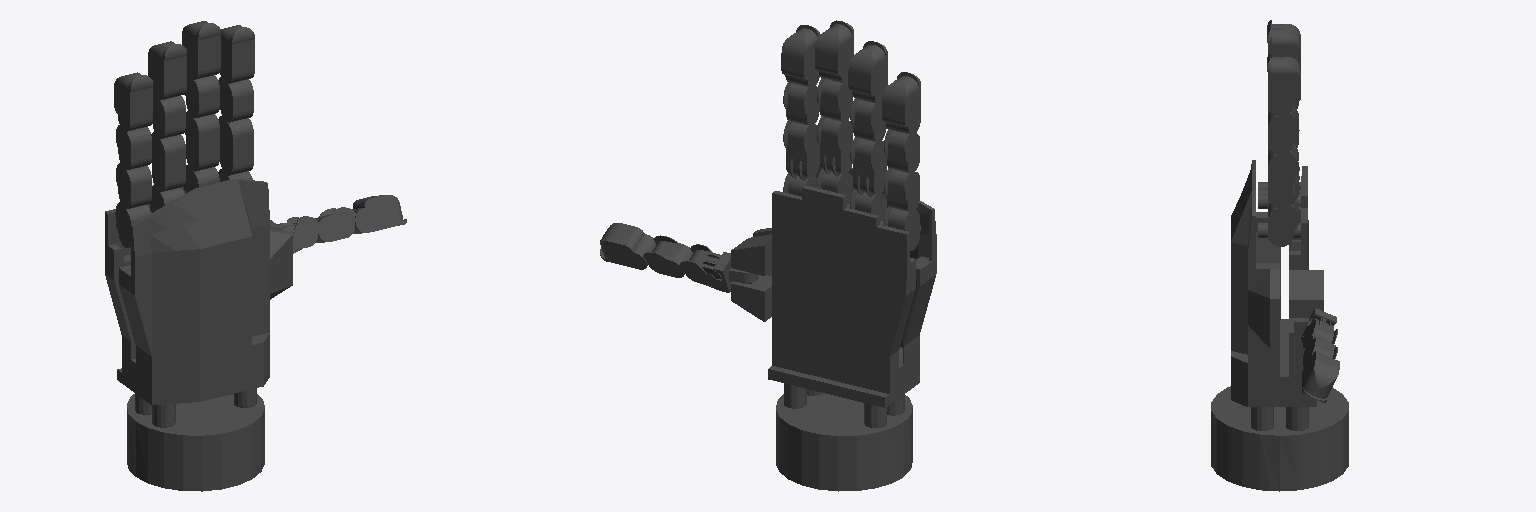
--- Render facts (derived) ---
3 views of the same robot in one strip: view 1: azimuth 30°, elevation 25°; view 2: azimuth 150°, elevation 25°; view 3: azimuth 270°, elevation 25° (orthographic).
Model qbhand with 38 links and 37 joints (34 revolute, 3 fixed), rooted at root_link, posed every joint at zero.
Visible links, largest first — view 1: qbhand_palm_link, qbhand_base_link, qbhand_little_distal_link, qbhand_ring_distal_link, qbhand_middle_distal_link, qbhand_index_distal_link, qbhand_middle_proximal_link, qbhand_ring_proximal_link, qbhand_index_proximal_link, qbhand_thumb_distal_link, qbhand_little_proximal_link, qbhand_little_middle_link (+7 smaller); view 2: qbhand_palm_link, qbhand_base_link, qbhand_little_distal_link, qbhand_ring_distal_link, qbhand_thumb_knuckle_link, qbhand_middle_distal_link, qbhand_thumb_distal_link, qbhand_index_distal_link, qbhand_index_proximal_link, qbhand_ring_proximal_link, qbhand_middle_proximal_link, qbhand_thumb_proximal_link (+8 smaller); view 3: qbhand_palm_link, qbhand_base_link, qbhand_index_distal_link, qbhand_index_proximal_link, qbhand_thumb_distal_link, qbhand_index_knuckle_link, qbhand_index_middle_link, qbhand_thumb_knuckle_link, qbhand_middle_distal_link.
Boxes of the visible links, x1,y1,x2,y2 form: qbhand_palm_link: (105, 178, 292, 404); qbhand_base_link: (127, 388, 264, 491); qbhand_little_distal_link: (114, 72, 153, 131); qbhand_ring_distal_link: (148, 41, 186, 99); qbhand_middle_distal_link: (182, 21, 220, 79); qbhand_index_distal_link: (220, 25, 254, 83); qbhand_middle_proximal_link: (185, 111, 219, 171); qbhand_ring_proximal_link: (151, 132, 185, 191); qbhand_index_proximal_link: (218, 115, 253, 175); qbhand_thumb_distal_link: (352, 195, 406, 233); qbhand_little_proximal_link: (116, 163, 151, 208); qbhand_little_middle_link: (116, 125, 151, 169); qbhand_palm_link: (731, 164, 936, 407); qbhand_base_link: (776, 383, 912, 491); qbhand_little_distal_link: (882, 72, 920, 134); qbhand_ring_distal_link: (848, 41, 887, 103); qbhand_thumb_knuckle_link: (680, 244, 757, 292); qbhand_middle_distal_link: (815, 20, 853, 83); qbhand_thumb_distal_link: (600, 223, 655, 269); qbhand_index_distal_link: (781, 25, 820, 87); qbhand_index_proximal_link: (783, 120, 819, 180); qbhand_ring_proximal_link: (850, 137, 886, 196); qbhand_middle_proximal_link: (817, 116, 852, 176); qbhand_thumb_proximal_link: (643, 235, 692, 277); qbhand_palm_link: (1231, 160, 1323, 406); qbhand_base_link: (1211, 386, 1348, 491); qbhand_index_distal_link: (1267, 53, 1300, 116); qbhand_index_proximal_link: (1268, 144, 1298, 207); qbhand_thumb_distal_link: (1302, 351, 1339, 402); qbhand_index_knuckle_link: (1258, 200, 1300, 246); qbhand_index_middle_link: (1268, 105, 1298, 154); qbhand_thumb_knuckle_link: (1294, 308, 1337, 348); qbhand_middle_distal_link: (1267, 25, 1300, 66).
Size in the robot's own frame: 0.1799 by 0.0703 by 0.2488 metres.
Meshes: 7 distinct files referenced, 21 mesh visuals loaded (7 binary STL).

robot.urdf — qbhand:
<?xml version="1.0" ?>
<!-- =================================================================================== -->
<!-- |    This document was autogenerated by xacro from qbhand.urdf.xacro              | -->
<!-- |    EDITING THIS FILE BY HAND IS NOT RECOMMENDED                                 | -->
<!-- =================================================================================== -->
<robot name="qbhand">
   <mujoco>
        <compiler
        meshdir="../meshes/qbhand"
        balanceinertia="true"
        discardvisual="false" />
   </mujoco>
  <material name="qbhand/optional">
    <color rgba="0.0 0.5 0.8 1.0"/>
  </material>
  <material name="qbhand/base">
    <color rgba="0.35 0.35 0.35 1.0"/>
  </material>
  <material name="qbhand/palm">
    <color rgba="0.35 0.35 0.35 1.0"/>
  </material>
  <material name="qbhand/knuckle">
    <color rgba="0.35 0.35 0.35 1.0"/>
  </material>
  <material name="qbhand/proximal">
    <color rgba="0.35 0.35 0.35 1.0"/>
  </material>
  <material name="qbhand/middle">
    <color rgba="0.35 0.35 0.35 1.0"/>
  </material>
  <material name="qbhand/distal">
    <color rgba="0.35 0.35 0.35 1.0"/>
  </material>
  <material name="qbhand/default">
    <color rgba="0.35 0.35 0.35 1.0"/>
  </material>
  <link name="root_link"/>
  <joint name="qbhand_base_fixed_joint" type="fixed">
    <origin rpy="0 0 0" xyz="0 0 0"/>
    <parent link="root_link"/>
    <child link="qbhand_base_link"/>
  </joint>
  <link name="qbhand_base_link">
    <inertial>
      <mass value="0.205"/>
      <origin rpy="0 0 0" xyz="0.0 7.8738498e-04 1.5878899e-02"/>
      <inertia ixx="0.00012506929" ixy="0.0" ixz="0.0" iyy="0.0001338779" iyz="0.0" izz="0.00019218394"/>
    </inertial>
    <visual>
      <origin rpy="0 0 0" xyz="0 0 0"/>
      <geometry>
        <mesh filename="../meshes/qbhand/flange_iso_04.stl" scale="0.001 0.001 0.001"/>
      </geometry>
      <material name="qbhand/base"/>
    </visual>
    <collision>
      <origin rpy="0 0 0" xyz="0 0 0"/>
      <geometry>
        <mesh filename="../meshes/qbhand/flange_iso_04.stl" scale="0.001 0.001 0.001"/>
      </geometry>
    </collision>
  </link>
  <gazebo reference="qbhand_base_link">
    <self_collide>1</self_collide>
    <!-- TODO: add other Gazebo Link properties (http://sdformat.org/spec?elem=link) -->
    <!--      <collision>-->
    <!--        <surface>-->
    <!--          <contact>-->
    <!--            <ode>-->
    <!--              <kp>1.0</kp>-->
    <!--              <kd>0.01</kd>-->
    <!--              <max_vel>0.0</max_vel>-->
    <!--              <min_depth>0.001</min_depth>-->
    <!--            </ode>-->
    <!--          </contact>-->
    <!--          <friction>-->
    <!--            <ode>-->
    <!--              <mu>0.9</mu>-->
    <!--              <mu2>0.9</mu2>-->
    <!--            </ode>-->
    <!--          </friction>-->
    <!--        </surface>-->
    <!--      </collision>-->
  </gazebo>
  <joint name="qbhand_palm_fixed_joint" type="fixed">
    <origin rpy="1.57 0 3.14" xyz="0.0045 0.0145 0.144"/>
    <parent link="qbhand_base_link"/>
    <child link="qbhand_palm_link"/>
  </joint>
  <link name="qbhand_palm_link">
    <inertial>
      <mass value="0.45"/>
      <origin rpy="0 0 0" xyz="0.0030 -0.0449 -0.0135"/>
      <inertia ixx="0.00045" ixy="0.0" ixz="0.0" iyy="0.0006" iyz="0.0" izz="0.00025"/>
    </inertial>
    <visual>
      <origin rpy="0 0 0" xyz="0 0 0"/>
      <geometry>
        <mesh filename="../meshes/qbhand/palm_pinch_l.stl" scale="0.001 0.001 0.001"/>
      </geometry>
      <material name="qbhand/palm"/>
    </visual>
    <collision>
      <origin rpy="0 0 0" xyz="0 0 0"/>
      <geometry>
        <mesh filename="../meshes/qbhand/palm_pinch_l.stl" scale="0.001 0.001 0.001"/>
      </geometry>
    </collision>
  </link>
  <gazebo reference="qbhand_palm_link">
    <self_collide>1</self_collide>
    <!-- TODO: add other Gazebo Link properties (http://sdformat.org/spec?elem=link) -->
    <!--      <collision>-->
    <!--        <surface>-->
    <!--          <contact>-->
    <!--            <ode>-->
    <!--              <kp>1.0</kp>-->
    <!--              <kd>0.01</kd>-->
    <!--              <max_vel>0.0</max_vel>-->
    <!--              <min_depth>0.001</min_depth>-->
    <!--            </ode>-->
    <!--          </contact>-->
    <!--          <friction>-->
    <!--            <ode>-->
    <!--              <mu>0.9</mu>-->
    <!--              <mu2>0.9</mu2>-->
    <!--            </ode>-->
    <!--          </friction>-->
    <!--        </surface>-->
    <!--      </collision>-->
  </gazebo>
  <joint name="qbhand_synergy_joint" type="revolute">
    <origin rpy="0 0 0" xyz="0 0 0"/>
    <parent link="qbhand_palm_link"/>
    <child link="qbhand_synergy_tendon_virtual_link"/>
    <axis xyz="0 0 1"/>
    <dynamics damping="0.0" friction="0.0"/>
    <limit effort="100" lower="0.0" upper="1.0" velocity="100"/>
  </joint>
  <transmission name="qbhand_synergy_transmission">
    <type>transmission_interface/qbMoveTransmission</type>
    <joint name="qbhand_synergy_joint">
      <hardwareInterface>hardware_interface/EffortJointInterface</hardwareInterface>
    </joint>
    <actuator name="qbhand_synergy_joint">
      <hardwareInterface>hardware_interface/EffortJointInterface</hardwareInterface>
    </actuator>
  </transmission>
  <link name="qbhand_synergy_tendon_virtual_link">
    <inertial>
      <origin rpy="0 0 0" xyz="0 0 0"/>
      <mass value="1e-4"/>
      <inertia ixx="1e-9" ixy="0.0" ixz="0.0" iyy="1e-9" iyz="0.0" izz="1e-9"/>
    </inertial>
  </link>
  <joint name="qbhand_thumb_knuckle_joint" type="revolute">
    <origin rpy="-1.57 3.14 0.0" xyz="-0.044 -0.0465 0.002"/>
    <parent link="qbhand_palm_link"/>
    <child link="qbhand_thumb_knuckle_link"/>
    <axis xyz="0 0 -1"/>
    <dynamics damping="0.0" friction="0.0"/>
    <limit effort="100" lower="0.0" upper="1.571" velocity="100"/>
    <mimic joint="qbhand_synergy_joint" multiplier="2.542"/>
  </joint>
  <transmission name="qbhand_transmission">
    <type>transmission_interface/qbMoveTransmission</type>
    <joint name="qbhand_thumb_knuckle_joint">
      <hardwareInterface>hardware_interface/EffortJointInterface</hardwareInterface>
    </joint>
    <actuator name="qbhand_thumb_knuckle_joint">
      <hardwareInterface>hardware_interface/EffortJointInterface</hardwareInterface>
    </actuator>
  </transmission>
  <gazebo reference="qbhand_thumb_knuckle_joint">
    <!-- TODO: add other Gazebo Joint properties (http://sdformat.org/spec?elem=joint) -->
  </gazebo>
  <link name="qbhand_thumb_knuckle_link">
    <inertial>
      <mass value="0.01"/>
      <origin rpy="0 0 0" xyz="1.3071561e-02 2.7346340e-03 6.4090487e-04"/>
      <inertia ixx="3.5827953e-07" ixy="-2.0934657e-07" ixz="-6.8435459e-08" iyy="1.3882698e-06" iyz="-3.2001578e-08" izz="1.3570267e-06"/>
    </inertial>
    <visual>
      <origin rpy="0 0 0" xyz="0 0 0"/>
      <geometry>
        <mesh filename="../meshes/qbhand/ph_thumb_l.stl" scale="0.001 0.001 0.001"/>
      </geometry>
      <material name="qbhand/knuckle"/>
    </visual>
    <collision>
      <origin rpy="0 0 0" xyz="0 0 0"/>
      <geometry>
        <mesh filename="../meshes/qbhand/ph_thumb_l_collision.stl" scale="0.001 0.001 0.001"/>
      </geometry>
    </collision>
  </link>
  <gazebo reference="qbhand_thumb_knuckle_link">
    <self_collide>1</self_collide>
    <!-- TODO: add other Gazebo Link properties (http://sdformat.org/spec?elem=link) -->
    <!--      <collision>-->
    <!--        <surface>-->
    <!--          <contact>-->
    <!--            <ode>-->
    <!--              <kp>1.0</kp>-->
    <!--              <kd>0.01</kd>-->
    <!--              <max_vel>0.0</max_vel>-->
    <!--              <min_depth>0.001</min_depth>-->
    <!--            </ode>-->
    <!--          </contact>-->
    <!--          <friction>-->
    <!--            <ode>-->
    <!--              <mu>0.9</mu>-->
    <!--              <mu2>0.9</mu2>-->
    <!--            </ode>-->
    <!--          </friction>-->
    <!--        </surface>-->
    <!--      </collision>-->
  </gazebo>
  <joint name="qbhand_thumb_proximal_joint" type="revolute">
    <origin rpy="-2.0 0.0 0.0" xyz="0.0255 0.0038 -0.00012"/>
    <parent link="qbhand_thumb_knuckle_link"/>
    <child link="qbhand_thumb_proximal_virtual_link"/>
    <axis xyz="0 0 -1"/>
    <dynamics damping="0.0" friction="0.0"/>
    <limit effort="100" lower="0.0" upper="0.785" velocity="100"/>
    <mimic joint="qbhand_synergy_joint" multiplier="0.785"/>
  </joint>
  <transmission name="qbhand_transmission">
    <type>transmission_interface/qbMoveTransmission</type>
    <joint name="qbhand_thumb_proximal_joint">
      <hardwareInterface>hardware_interface/EffortJointInterface</hardwareInterface>
    </joint>
    <actuator name="qbhand_thumb_proximal_joint">
      <hardwareInterface>hardware_interface/EffortJointInterface</hardwareInterface>
    </actuator>
  </transmission>
  <gazebo reference="qbhand_thumb_proximal_joint">
    <!-- TODO: add other Gazebo Joint properties (http://sdformat.org/spec?elem=joint) -->
  </gazebo>
  <link name="qbhand_thumb_proximal_virtual_link">
    <inertial>
      <origin rpy="0 0 0" xyz="0 0 0"/>
      <mass value="1e-4"/>
      <inertia ixx="1e-9" ixy="0.0" ixz="0.0" iyy="1e-9" iyz="0.0" izz="1e-9"/>
    </inertial>
  </link>
  <joint name="qbhand_thumb_proximal_virtual_joint" type="revolute">
    <origin rpy="0 0 0" xyz="0.013 0 0"/>
    <parent link="qbhand_thumb_proximal_virtual_link"/>
    <child link="qbhand_thumb_proximal_link"/>
    <axis xyz="0 0 -1"/>
    <dynamics damping="0.0" friction="0.0"/>
    <limit effort="100" lower="0.0" upper="0.785" velocity="100"/>
    <mimic joint="qbhand_thumb_proximal_joint" multiplier="1.0"/>
  </joint>
  <transmission name="qbhand_transmission">
    <type>transmission_interface/qbMoveTransmission</type>
    <joint name="qbhand_thumb_proximal_virtual_joint">
      <hardwareInterface>hardware_interface/EffortJointInterface</hardwareInterface>
    </joint>
    <actuator name="qbhand_thumb_proximal_virtual_joint">
      <hardwareInterface>hardware_interface/EffortJointInterface</hardwareInterface>
    </actuator>
  </transmission>
  <gazebo reference="qbhand_thumb_proximal_virtual_joint">
    <!-- TODO: add other Gazebo Joint properties (http://sdformat.org/spec?elem=joint) -->
  </gazebo>
  <link name="qbhand_thumb_proximal_link">
    <inertial>
      <mass value="0.0063"/>
      <origin rpy="0 0 0" xyz="4.7601567e-03 -1.3786947e-03 0.0"/>
      <inertia ixx="1.8024201e-07" ixy="5.756798e-09" ixz="0.0" iyy="2.3516266e-07" iyz="0.0" izz="2.691504e-07"/>
    </inertial>
    <visual>
      <origin rpy="0 0 0" xyz="0 0 0"/>
      <geometry>
        <mesh filename="../meshes/qbhand/ph_short.stl" scale="0.001 0.001 0.001"/>
      </geometry>
      <material name="qbhand/proximal"/>
    </visual>
    <collision>
      <origin rpy="0 0 0" xyz="0 0 0"/>
      <geometry>
        <mesh filename="../meshes/qbhand/ph_short_collision.stl" scale="0.001 0.001 0.001"/>
      </geometry>
    </collision>
  </link>
  <gazebo reference="qbhand_thumb_proximal_link">
    <self_collide>1</self_collide>
    <!-- TODO: add other Gazebo Link properties (http://sdformat.org/spec?elem=link) -->
    <!--      <collision>-->
    <!--        <surface>-->
    <!--          <contact>-->
    <!--            <ode>-->
    <!--              <kp>1.0</kp>-->
    <!--              <kd>0.01</kd>-->
    <!--              <max_vel>0.0</max_vel>-->
    <!--              <min_depth>0.001</min_depth>-->
    <!--            </ode>-->
    <!--          </contact>-->
    <!--          <friction>-->
    <!--            <ode>-->
    <!--              <mu>0.9</mu>-->
    <!--              <mu2>0.9</mu2>-->
    <!--            </ode>-->
    <!--          </friction>-->
    <!--        </surface>-->
    <!--      </collision>-->
  </gazebo>
  <joint name="qbhand_thumb_distal_joint" type="revolute">
    <origin rpy="0 0 0" xyz="0.009 0 0"/>
    <parent link="qbhand_thumb_proximal_link"/>
    <child link="qbhand_thumb_distal_virtual_link"/>
    <axis xyz="0 0 -1"/>
    <dynamics damping="0.0" friction="0.0"/>
    <limit effort="100" lower="0.0" upper="0.785" velocity="100"/>
    <mimic joint="qbhand_synergy_joint" multiplier="0.785"/>
  </joint>
  <transmission name="qbhand_transmission">
    <type>transmission_interface/qbMoveTransmission</type>
    <joint name="qbhand_thumb_distal_joint">
      <hardwareInterface>hardware_interface/EffortJointInterface</hardwareInterface>
    </joint>
    <actuator name="qbhand_thumb_distal_joint">
      <hardwareInterface>hardware_interface/EffortJointInterface</hardwareInterface>
    </actuator>
  </transmission>
  <gazebo reference="qbhand_thumb_distal_joint">
    <!-- TODO: add other Gazebo Joint properties (http://sdformat.org/spec?elem=joint) -->
  </gazebo>
  <link name="qbhand_thumb_distal_virtual_link">
    <inertial>
      <origin rpy="0 0 0" xyz="0 0 0"/>
      <mass value="1e-4"/>
      <inertia ixx="1e-9" ixy="0.0" ixz="0.0" iyy="1e-9" iyz="0.0" izz="1e-9"/>
    </inertial>
  </link>
  <joint name="qbhand_thumb_distal_virtual_joint" type="revolute">
    <origin rpy="0 0 0" xyz="0.013 0 0"/>
    <parent link="qbhand_thumb_distal_virtual_link"/>
    <child link="qbhand_thumb_distal_link"/>
    <axis xyz="0 0 -1"/>
    <dynamics damping="0.0" friction="0.0"/>
    <limit effort="100" lower="0.0" upper="0.785" velocity="100"/>
    <mimic joint="qbhand_thumb_distal_joint" multiplier="1.0"/>
  </joint>
  <transmission name="qbhand_transmission">
    <type>transmission_interface/qbMoveTransmission</type>
    <joint name="qbhand_thumb_distal_virtual_joint">
      <hardwareInterface>hardware_interface/EffortJointInterface</hardwareInterface>
    </joint>
    <actuator name="qbhand_thumb_distal_virtual_joint">
      <hardwareInterface>hardware_interface/EffortJointInterface</hardwareInterface>
    </actuator>
  </transmission>
  <gazebo reference="qbhand_thumb_distal_virtual_joint">
    <!-- TODO: add other Gazebo Joint properties (http://sdformat.org/spec?elem=joint) -->
  </gazebo>
  <link name="qbhand_thumb_distal_link">
    <inertial>
      <mass value="0.009"/>
      <origin rpy="0 0 0" xyz="8.8025467e-03 -1.7219289e-03 0.0"/>
      <inertia ixx="2.6586142e-07" ixy="1.2416847e-08" ixz="0.0" iyy="5.9935767e-07" iyz="0.0" izz="6.6781963e-07"/>
    </inertial>
    <visual>
      <origin rpy="0 0 0" xyz="0 0 0"/>
      <geometry>
        <mesh filename="../meshes/qbhand/ph_distal.stl" scale="0.001 0.001 0.001"/>
      </geometry>
      <material name="qbhand/distal"/>
    </visual>
    <collision>
      <origin rpy="0 0 0" xyz="0 0 0"/>
      <geometry>
        <mesh filename="../meshes/qbhand/ph_distal_collision.stl" scale="0.001 0.001 0.001"/>
      </geometry>
    </collision>
  </link>
  <gazebo reference="qbhand_thumb_distal_link">
    <self_collide>1</self_collide>
    <!-- TODO: add other Gazebo Link properties (http://sdformat.org/spec?elem=link) -->
    <!--      <collision>-->
    <!--        <surface>-->
    <!--          <contact>-->
    <!--            <ode>-->
    <!--              <kp>1.0</kp>-->
    <!--              <kd>0.01</kd>-->
    <!--              <max_vel>0.0</max_vel>-->
    <!--              <min_depth>0.001</min_depth>-->
    <!--            </ode>-->
    <!--          </contact>-->
    <!--          <friction>-->
    <!--            <ode>-->
    <!--              <mu>0.9</mu>-->
    <!--              <mu2>0.9</mu2>-->
    <!--            </ode>-->
    <!--          </friction>-->
    <!--        </surface>-->
    <!--      </collision>-->
  </gazebo>
  <joint name="qbhand_index_knuckle_joint" type="revolute">
    <origin rpy="0 3.14 -1.57" xyz="-0.02 -0.007 -0.014"/>
    <parent link="qbhand_palm_link"/>
    <child link="qbhand_index_knuckle_link"/>
    <axis xyz="0 0 -1"/>
    <dynamics damping="0.0" friction="0.0"/>
    <limit effort="100" lower="-0.524" upper="0.524" velocity="100"/>
    <mimic joint="qbhand_synergy_joint" multiplier="0.2"/>
  </joint>
  <transmission name="qbhand_transmission">
    <type>transmission_interface/qbMoveTransmission</type>
    <joint name="qbhand_index_knuckle_joint">
      <hardwareInterface>hardware_interface/EffortJointInterface</hardwareInterface>
    </joint>
    <actuator name="qbhand_index_knuckle_joint">
      <hardwareInterface>hardware_interface/EffortJointInterface</hardwareInterface>
    </actuator>
  </transmission>
  <gazebo reference="qbhand_index_knuckle_joint">
    <!-- TODO: add other Gazebo Joint properties (http://sdformat.org/spec?elem=joint) -->
  </gazebo>
  <link name="qbhand_index_knuckle_link">
    <inertial>
      <mass value="0.0095"/>
      <origin rpy="0 0 0" xyz="4.2753603e-04  0.0 -1.4321738e-03"/>
      <inertia ixx="6.4337303e-07" ixy="0.0" ixz="-3.9373913e-08" iyy="1.1253771e-06" iyz="0.0" izz="7.2336948e-07"/>
    </inertial>
    <visual>
      <origin rpy="0 0 0" xyz="0 0 0"/>
      <geometry>
        <mesh filename="../meshes/qbhand/ph_knuckle.stl" scale="0.001 0.001 0.001"/>
      </geometry>
      <material name="qbhand/knuckle"/>
    </visual>
    <collision>
      <origin rpy="0 0 0" xyz="0 0 0"/>
      <geometry>
        <mesh filename="../meshes/qbhand/ph_knuckle_collision.stl" scale="0.001 0.001 0.001"/>
      </geometry>
    </collision>
  </link>
  <gazebo reference="qbhand_index_knuckle_link">
    <self_collide>1</self_collide>
    <!-- TODO: add other Gazebo Link properties (http://sdformat.org/spec?elem=link) -->
    <!--      <collision>-->
    <!--        <surface>-->
    <!--          <contact>-->
    <!--            <ode>-->
    <!--              <kp>1.0</kp>-->
    <!--              <kd>0.01</kd>-->
    <!--              <max_vel>0.0</max_vel>-->
    <!--              <min_depth>0.001</min_depth>-->
    <!--            </ode>-->
    <!--          </contact>-->
    <!--          <friction>-->
    <!--            <ode>-->
    <!--              <mu>0.9</mu>-->
    <!--              <mu2>0.9</mu2>-->
    <!--            </ode>-->
    <!--          </friction>-->
    <!--        </surface>-->
    <!--      </collision>-->
  </gazebo>
  <joint name="qbhand_index_proximal_joint" type="revolute">
    <origin rpy="1.57 0 0" xyz="0.009 0 0"/>
    <parent link="qbhand_index_knuckle_link"/>
    <child link="qbhand_index_proximal_virtual_link"/>
    <axis xyz="0 0 -1"/>
    <dynamics damping="0.0" friction="0.0"/>
    <limit effort="100" lower="0.0" upper="0.785" velocity="100"/>
    <mimic joint="qbhand_synergy_joint" multiplier="0.785"/>
  </joint>
  <transmission name="qbhand_transmission">
    <type>transmission_interface/qbMoveTransmission</type>
    <joint name="qbhand_index_proximal_joint">
      <hardwareInterface>hardware_interface/EffortJointInterface</hardwareInterface>
    </joint>
    <actuator name="qbhand_index_proximal_joint">
      <hardwareInterface>hardware_interface/EffortJointInterface</hardwareInterface>
    </actuator>
  </transmission>
  <gazebo reference="qbhand_index_proximal_joint">
    <!-- TODO: add other Gazebo Joint properties (http://sdformat.org/spec?elem=joint) -->
  </gazebo>
  <link name="qbhand_index_proximal_virtual_link">
    <inertial>
      <origin rpy="0 0 0" xyz="0 0 0"/>
      <mass value="1e-4"/>
      <inertia ixx="1e-9" ixy="0.0" ixz="0.0" iyy="1e-9" iyz="0.0" izz="1e-9"/>
    </inertial>
  </link>
  <joint name="qbhand_index_proximal_virtual_joint" type="revolute">
    <origin rpy="0 0 0" xyz="0.013 0 0"/>
    <parent link="qbhand_index_proximal_virtual_link"/>
    <child link="qbhand_index_proximal_link"/>
    <axis xyz="0 0 -1"/>
    <dynamics damping="0.0" friction="0.0"/>
    <limit effort="100" lower="0.0" upper="0.785" velocity="100"/>
    <mimic joint="qbhand_index_proximal_joint" multiplier="1.0"/>
  </joint>
  <transmission name="qbhand_transmission">
    <type>transmission_interface/qbMoveTransmission</type>
    <joint name="qbhand_index_proximal_virtual_joint">
      <hardwareInterface>hardware_interface/EffortJointInterface</hardwareInterface>
    </joint>
    <actuator name="qbhand_index_proximal_virtual_joint">
      <hardwareInterface>hardware_interface/EffortJointInterface</hardwareInterface>
    </actuator>
  </transmission>
  <gazebo reference="qbhand_index_proximal_virtual_joint">
    <!-- TODO: add other Gazebo Joint properties (http://sdformat.org/spec?elem=joint) -->
  </gazebo>
  <link name="qbhand_index_proximal_link">
    <inertial>
      <mass value="0.0082"/>
      <origin rpy="0 0 0" xyz="8.7707437e-03 -1.7863138e-03 0.0"/>
      <inertia ixx="2.2722068e-07" ixy="1.1586053e-08" ixz="0.0" iyy="5.5947233e-07" iyz="0.0" izz="5.9562195e-07"/>
    </inertial>
    <visual>
      <origin rpy="0 0 0" xyz="0 0 0"/>
      <geometry>
        <mesh filename="../meshes/qbhand/ph_medium.stl" scale="0.001 0.001 0.001"/>
      </geometry>
      <material name="qbhand/proximal"/>
    </visual>
    <collision>
      <origin rpy="0 0 0" xyz="0 0 0"/>
      <geometry>
        <mesh filename="../meshes/qbhand/ph_medium_collision.stl" scale="0.001 0.001 0.001"/>
      </geometry>
    </collision>
  </link>
  <gazebo reference="qbhand_index_proximal_link">
    <self_collide>1</self_collide>
    <!-- TODO: add other Gazebo Link properties (http://sdformat.org/spec?elem=link) -->
    <!--      <collision>-->
    <!--        <surface>-->
    <!--          <contact>-->
    <!--            <ode>-->
    <!--              <kp>1.0</kp>-->
    <!--              <kd>0.01</kd>-->
    <!--              <max_vel>0.0</max_vel>-->
    <!--              <min_depth>0.001</min_depth>-->
    <!--            </ode>-->
    <!--          </contact>-->
    <!--          <friction>-->
    <!--            <ode>-->
    <!--              <mu>0.9</mu>-->
    <!--              <mu2>0.9</mu2>-->
    <!--            </ode>-->
    <!--          </friction>-->
    <!--        </surface>-->
    <!--      </collision>-->
  </gazebo>
  <joint name="qbhand_index_middle_joint" type="revolute">
    <origin rpy="0 0 0" xyz="0.017 0 0"/>
    <parent link="qbhand_index_proximal_link"/>
    <child link="qbhand_index_middle_virtual_link"/>
    <axis xyz="0 0 -1"/>
    <dynamics damping="0.0" friction="0.0"/>
    <limit effort="100" lower="0.0" upper="0.785" velocity="100"/>
    <mimic joint="qbhand_synergy_joint" multiplier="0.785"/>
  </joint>
  <transmission name="qbhand_transmission">
    <type>transmission_interface/qbMoveTransmission</type>
    <joint name="qbhand_index_middle_joint">
      <hardwareInterface>hardware_interface/EffortJointInterface</hardwareInterface>
    </joint>
    <actuator name="qbhand_index_middle_joint">
      <hardwareInterface>hardware_interface/EffortJointInterface</hardwareInterface>
    </actuator>
  </transmission>
  <gazebo reference="qbhand_index_middle_joint">
    <!-- TODO: add other Gazebo Joint properties (http://sdformat.org/spec?elem=joint) -->
  </gazebo>
  <link name="qbhand_index_middle_virtual_link">
    <inertial>
      <origin rpy="0 0 0" xyz="0 0 0"/>
      <mass value="1e-4"/>
      <inertia ixx="1e-9" ixy="0.0" ixz="0.0" iyy="1e-9" iyz="0.0" izz="1e-9"/>
    </inertial>
  </link>
  <joint name="qbhand_index_middle_virtual_joint" type="revolute">
    <origin rpy="0 0 0" xyz="0.013 0 0"/>
    <parent link="qbhand_index_middle_virtual_link"/>
    <child link="qbhand_index_middle_link"/>
    <axis xyz="0 0 -1"/>
    <dynamics damping="0.0" friction="0.0"/>
    <limit effort="100" lower="0.0" upper="0.785" velocity="100"/>
    <mimic joint="qbhand_index_middle_joint" multiplier="1.0"/>
  </joint>
  <transmission name="qbhand_transmission">
    <type>transmission_interface/qbMoveTransmission</type>
    <joint name="qbhand_index_middle_virtual_joint">
      <hardwareInterface>hardware_interface/EffortJointInterface</hardwareInterface>
    </joint>
    <actuator name="qbhand_index_middle_virtual_joint">
      <hardwareInterface>hardware_interface/EffortJointInterface</hardwareInterface>
    </actuator>
  </transmission>
  <gazebo reference="qbhand_index_middle_virtual_joint">
    <!-- TODO: add other Gazebo Joint properties (http://sdformat.org/spec?elem=joint) -->
  </gazebo>
  <link name="qbhand_index_middle_link">
    <inertial>
      <mass value="0.0063"/>
      <origin rpy="0 0 0" xyz="4.7601567e-03 -1.3786947e-03 0.0"/>
      <inertia ixx="1.8024201e-07" ixy="5.756798e-09" ixz="0.0" iyy="2.3516266e-07" iyz="0.0" izz="2.691504e-07"/>
    </inertial>
    <visual>
      <origin rpy="0 0 0" xyz="0 0 0"/>
      <geometry>
        <mesh filename="../meshes/qbhand/ph_short.stl" scale="0.001 0.001 0.001"/>
      </geometry>
      <material name="qbhand/middle"/>
    </visual>
    <collision>
      <origin rpy="0 0 0" xyz="0 0 0"/>
      <geometry>
        <mesh filename="../meshes/qbhand/ph_short_collision.stl" scale="0.001 0.001 0.001"/>
      </geometry>
    </collision>
  </link>
  <gazebo reference="qbhand_index_middle_link">
    <self_collide>1</self_collide>
    <!-- TODO: add other Gazebo Link properties (http://sdformat.org/spec?elem=link) -->
    <!--      <collision>-->
    <!--        <surface>-->
    <!--          <contact>-->
    <!--            <ode>-->
    <!--              <kp>1.0</kp>-->
    <!--              <kd>0.01</kd>-->
    <!--              <max_vel>0.0</max_vel>-->
    <!--              <min_depth>0.001</min_depth>-->
    <!--            </ode>-->
    <!--          </contact>-->
    <!--          <friction>-->
    <!--            <ode>-->
    <!--              <mu>0.9</mu>-->
    <!--              <mu2>0.9</mu2>-->
    <!--            </ode>-->
    <!--          </friction>-->
    <!--        </surface>-->
    <!--      </collision>-->
  </gazebo>
  <joint name="qbhand_index_distal_joint" type="revolute">
    <origin rpy="0 0 0" xyz="0.009 0 0"/>
    <parent link="qbhand_index_middle_link"/>
    <child link="qbhand_index_distal_virtual_link"/>
    <axis xyz="0 0 -1"/>
    <dynamics damping="0.0" friction="0.0"/>
    <limit effort="100" lower="0.0" upper="0.785" velocity="100"/>
    <mimic joint="qbhand_synergy_joint" multiplier="0.785"/>
  </joint>
  <transmission name="qbhand_transmission">
    <type>transmission_interface/qbMoveTransmission</type>
    <joint name="qbhand_index_distal_joint">
      <hardwareInterface>hardware_interface/EffortJointInterface</hardwareInterface>
    </joint>
    <actuator name="qbhand_index_distal_joint">
      <hardwareInterface>hardware_interface/EffortJointInterface</hardwareInterface>
    </actuator>
  </transmission>
  <gazebo reference="qbhand_index_distal_joint">
    <!-- TODO: add other Gazebo Joint properties (http://sdformat.org/spec?elem=joint) -->
  </gazebo>
  <link name="qbhand_index_distal_virtual_link">
    <inertial>
      <origin rpy="0 0 0" xyz="0 0 0"/>
      <mass value="1e-4"/>
      <inertia ixx="1e-9" ixy="0.0" ixz="0.0" iyy="1e-9" iyz="0.0" izz="1e-9"/>
    </inertial>
  </link>
  <joint name="qbhand_index_distal_virtual_joint" type="revolute">
    <origin rpy="0 0 0" xyz="0.013 0 0"/>
    <parent link="qbhand_index_distal_virtual_link"/>
    <child link="qbhand_index_distal_link"/>
    <axis xyz="0 0 -1"/>
    <dynamics damping="0.0" friction="0.0"/>
    <limit effort="100" lower="0.0" upper="0.785" velocity="100"/>
    <mimic joint="qbhand_index_distal_joint" multiplier="1.0"/>
  </joint>
  <transmission name="qbhand_transmission">
    <type>transmission_interface/qbMoveTransmission</type>
    <joint name="qbhand_index_distal_virtual_joint">
      <hardwareInterface>hardware_interface/EffortJointInterface</hardwareInterface>
    </joint>
    <actuator name="qbhand_index_distal_virtual_joint">
      <hardwareInterface>hardware_interface/EffortJointInterface</hardwareInterface>
    </actuator>
  </transmission>
  <gazebo reference="qbhand_index_distal_virtual_joint">
    <!-- TODO: add other Gazebo Joint properties (http://sdformat.org/spec?elem=joint) -->
  </gazebo>
  <link name="qbhand_index_distal_link">
    <inertial>
      <mass value="0.009"/>
      <origin rpy="0 0 0" xyz="8.8025467e-03 -1.7219289e-03 0.0"/>
      <inertia ixx="2.6586142e-07" ixy="1.2416847e-08" ixz="0.0" iyy="5.9935767e-07" iyz="0.0" izz="6.6781963e-07"/>
    </inertial>
    <visual>
      <origin rpy="0 0 0" xyz="0 0 0"/>
      <geometry>
        <mesh filename="../meshes/qbhand/ph_distal.stl" scale="0.001 0.001 0.001"/>
      </geometry>
      <material name="qbhand/distal"/>
    </visual>
    <collision>
      <origin rpy="0 0 0" xyz="0 0 0"/>
      <geometry>
        <mesh filename="../meshes/qbhand/ph_distal_collision.stl" scale="0.001 0.001 0.001"/>
      </geometry>
    </collision>
  </link>
  <gazebo reference="qbhand_index_distal_link">
    <self_collide>1</self_collide>
    <!-- TODO: add other Gazebo Link properties (http://sdformat.org/spec?elem=link) -->
    <!--      <collision>-->
    <!--        <surface>-->
    <!--          <contact>-->
    <!--            <ode>-->
    <!--              <kp>1.0</kp>-->
    <!--              <kd>0.01</kd>-->
    <!--              <max_vel>0.0</max_vel>-->
    <!--              <min_depth>0.001</min_depth>-->
    <!--            </ode>-->
    <!--          </contact>-->
    <!--          <friction>-->
    <!--            <ode>-->
    <!--              <mu>0.9</mu>-->
    <!--              <mu2>0.9</mu2>-->
    <!--            </ode>-->
    <!--          </friction>-->
    <!--        </surface>-->
    <!--      </collision>-->
  </gazebo>
  <joint name="qbhand_middle_knuckle_joint" type="revolute">
    <origin rpy="0 3.14 -1.57" xyz="0 0 -0.014"/>
    <parent link="qbhand_palm_link"/>
    <child link="qbhand_middle_knuckle_link"/>
    <axis xyz="0 0 -1"/>
    <dynamics damping="0.0" friction="0.0"/>
    <limit effort="100" lower="-0.524" upper="0.524" velocity="100"/>
    <mimic joint="qbhand_synergy_joint" multiplier="0.0"/>
  </joint>
  <transmission name="qbhand_transmission">
    <type>transmission_interface/qbMoveTransmission</type>
    <joint name="qbhand_middle_knuckle_joint">
      <hardwareInterface>hardware_interface/EffortJointInterface</hardwareInterface>
    </joint>
    <actuator name="qbhand_middle_knuckle_joint">
      <hardwareInterface>hardware_interface/EffortJointInterface</hardwareInterface>
    </actuator>
  </transmission>
  <gazebo reference="qbhand_middle_knuckle_joint">
    <!-- TODO: add other Gazebo Joint properties (http://sdformat.org/spec?elem=joint) -->
  </gazebo>
  <link name="qbhand_middle_knuckle_link">
    <inertial>
      <mass value="0.0095"/>
      <origin rpy="0 0 0" xyz="4.2753603e-04  0.0 -1.4321738e-03"/>
      <inertia ixx="6.4337303e-07" ixy="0.0" ixz="-3.9373913e-08" iyy="1.1253771e-06" iyz="0.0" izz="7.2336948e-07"/>
    </inertial>
    <visual>
      <origin rpy="0 0 0" xyz="0 0 0"/>
      <geometry>
        <mesh filename="../meshes/qbhand/ph_knuckle.stl" scale="0.001 0.001 0.001"/>
      </geometry>
      <material name="qbhand/knuckle"/>
    </visual>
    <collision>
      <origin rpy="0 0 0" xyz="0 0 0"/>
      <geometry>
        <mesh filename="../meshes/qbhand/ph_knuckle_collision.stl" scale="0.001 0.001 0.001"/>
      </geometry>
    </collision>
  </link>
  <gazebo reference="qbhand_middle_knuckle_link">
    <self_collide>1</self_collide>
    <!-- TODO: add other Gazebo Link properties (http://sdformat.org/spec?elem=link) -->
    <!--      <collision>-->
    <!--        <surface>-->
    <!--          <contact>-->
    <!--            <ode>-->
    <!--              <kp>1.0</kp>-->
    <!--              <kd>0.01</kd>-->
    <!--              <max_vel>0.0</max_vel>-->
    <!--              <min_depth>0.001</min_depth>-->
    <!--            </ode>-->
    <!--          </contact>-->
    <!--          <friction>-->
    <!--            <ode>-->
    <!--              <mu>0.9</mu>-->
    <!--              <mu2>0.9</mu2>-->
    <!--            </ode>-->
    <!--          </friction>-->
    <!--        </surface>-->
    <!--      </collision>-->
  </gazebo>
  <joint name="qbhand_middle_proximal_joint" type="revolute">
    <origin rpy="1.57 0 0" xyz="0.009 0 0"/>
    <parent link="qbhand_middle_knuckle_link"/>
    <child link="qbhand_middle_proximal_virtual_link"/>
    <axis xyz="0 0 -1"/>
    <dynamics damping="0.0" friction="0.0"/>
    <limit effort="100" lower="0.0" upper="0.785" velocity="100"/>
    <mimic joint="qbhand_synergy_joint" multiplier="0.785"/>
  </joint>
  <transmission name="qbhand_transmission">
    <type>transmission_interface/qbMoveTransmission</type>
    <joint name="qbhand_middle_proximal_joint">
      <hardwareInterface>hardware_interface/EffortJointInterface</hardwareInterface>
    </joint>
    <actuator name="qbhand_middle_proximal_joint">
      <hardwareInterface>hardware_interface/EffortJointInterface</hardwareInterface>
    </actuator>
  </transmission>
  <gazebo reference="qbhand_middle_proximal_joint">
    <!-- TODO: add other Gazebo Joint properties (http://sdformat.org/spec?elem=joint) -->
  </gazebo>
  <link name="qbhand_middle_proximal_virtual_link">
    <inertial>
      <origin rpy="0 0 0" xyz="0 0 0"/>
      <mass value="1e-4"/>
      <inertia ixx="1e-9" ixy="0.0" ixz="0.0" iyy="1e-9" iyz="0.0" izz="1e-9"/>
    </inertial>
  </link>
  <joint name="qbhand_middle_proximal_virtual_joint" type="revolute">
    <origin rpy="0 0 0" xyz="0.013 0 0"/>
    <parent link="qbhand_middle_proximal_virtual_link"/>
    <child link="qbhand_middle_proximal_link"/>
    <axis xyz="0 0 -1"/>
    <dynamics damping="0.0" friction="0.0"/>
    <limit effort="100" lower="0.0" upper="0.785" velocity="100"/>
    <mimic joint="qbhand_middle_proximal_joint" multiplier="1.0"/>
  </joint>
  <transmission name="qbhand_transmission">
    <type>transmission_interface/qbMoveTransmission</type>
    <joint name="qbhand_middle_proximal_virtual_joint">
      <hardwareInterface>hardware_interface/EffortJointInterface</hardwareInterface>
    </joint>
    <actuator name="qbhand_middle_proximal_virtual_joint">
      <hardwareInterface>hardware_interface/EffortJointInterface</hardwareInterface>
    </actuator>
  </transmission>
  <gazebo reference="qbhand_middle_proximal_virtual_joint">
    <!-- TODO: add other Gazebo Joint properties (http://sdformat.org/spec?elem=joint) -->
  </gazebo>
  <link name="qbhand_middle_proximal_link">
    <inertial>
      <mass value="0.0082"/>
      <origin rpy="0 0 0" xyz="8.7707437e-03 -1.7863138e-03 0.0"/>
      <inertia ixx="2.2722068e-07" ixy="1.1586053e-08" ixz="0.0" iyy="5.5947233e-07" iyz="0.0" izz="5.9562195e-07"/>
    </inertial>
    <visual>
      <origin rpy="0 0 0" xyz="0 0 0"/>
      <geometry>
        <mesh filename="../meshes/qbhand/ph_medium.stl" scale="0.001 0.001 0.001"/>
      </geometry>
      <material name="qbhand/proximal"/>
    </visual>
    <collision>
      <origin rpy="0 0 0" xyz="0 0 0"/>
      <geometry>
        <mesh filename="../meshes/qbhand/ph_medium_collision.stl" scale="0.001 0.001 0.001"/>
      </geometry>
    </collision>
  </link>
  <gazebo reference="qbhand_middle_proximal_link">
    <self_collide>1</self_collide>
    <!-- TODO: add other Gazebo Link properties (http://sdformat.org/spec?elem=link) -->
    <!--      <collision>-->
    <!--        <surface>-->
    <!--          <contact>-->
    <!--            <ode>-->
    <!--              <kp>1.0</kp>-->
    <!--              <kd>0.01</kd>-->
    <!--              <max_vel>0.0</max_vel>-->
    <!--              <min_depth>0.001</min_depth>-->
    <!--            </ode>-->
    <!--          </contact>-->
    <!--          <friction>-->
    <!--            <ode>-->
    <!--              <mu>0.9</mu>-->
    <!--              <mu2>0.9</mu2>-->
    <!--            </ode>-->
    <!--          </friction>-->
    <!--        </surface>-->
    <!--      </collision>-->
  </gazebo>
  <joint name="qbhand_middle_middle_joint" type="revolute">
    <origin rpy="0 0 0" xyz="0.017 0 0"/>
    <parent link="qbhand_middle_proximal_link"/>
    <child link="qbhand_middle_middle_virtual_link"/>
    <axis xyz="0 0 -1"/>
    <dynamics damping="0.0" friction="0.0"/>
    <limit effort="100" lower="0.0" upper="0.785" velocity="100"/>
    <mimic joint="qbhand_synergy_joint" multiplier="0.785"/>
  </joint>
  <transmission name="qbhand_transmission">
    <type>transmission_interface/qbMoveTransmission</type>
    <joint name="qbhand_middle_middle_joint">
      <hardwareInterface>hardware_interface/EffortJointInterface</hardwareInterface>
    </joint>
    <actuator name="qbhand_middle_middle_joint">
      <hardwareInterface>hardware_interface/EffortJointInterface</hardwareInterface>
    </actuator>
  </transmission>
  <gazebo reference="qbhand_middle_middle_joint">
    <!-- TODO: add other Gazebo Joint properties (http://sdformat.org/spec?elem=joint) -->
  </gazebo>
  <link name="qbhand_middle_middle_virtual_link">
    <inertial>
      <origin rpy="0 0 0" xyz="0 0 0"/>
      <mass value="1e-4"/>
      <inertia ixx="1e-9" ixy="0.0" ixz="0.0" iyy="1e-9" iyz="0.0" izz="1e-9"/>
    </inertial>
  </link>
  <joint name="qbhand_middle_middle_virtual_joint" type="revolute">
    <origin rpy="0 0 0" xyz="0.013 0 0"/>
    <parent link="qbhand_middle_middle_virtual_link"/>
    <child link="qbhand_middle_middle_link"/>
    <axis xyz="0 0 -1"/>
    <dynamics damping="0.0" friction="0.0"/>
    <limit effort="100" lower="0.0" upper="0.785" velocity="100"/>
    <mimic joint="qbhand_middle_middle_joint" multiplier="1.0"/>
  </joint>
  <transmission name="qbhand_transmission">
    <type>transmission_interface/qbMoveTransmission</type>
    <joint name="qbhand_middle_middle_virtual_joint">
      <hardwareInterface>hardware_interface/EffortJointInterface</hardwareInterface>
    </joint>
    <actuator name="qbhand_middle_middle_virtual_joint">
      <hardwareInterface>hardware_interface/EffortJointInterface</hardwareInterface>
    </actuator>
  </transmission>
  <gazebo reference="qbhand_middle_middle_virtual_joint">
    <!-- TODO: add other Gazebo Joint properties (http://sdformat.org/spec?elem=joint) -->
  </gazebo>
  <link name="qbhand_middle_middle_link">
    <inertial>
      <mass value="0.0063"/>
      <origin rpy="0 0 0" xyz="4.7601567e-03 -1.3786947e-03 0.0"/>
      <inertia ixx="1.8024201e-07" ixy="5.756798e-09" ixz="0.0" iyy="2.3516266e-07" iyz="0.0" izz="2.691504e-07"/>
    </inertial>
    <visual>
      <origin rpy="0 0 0" xyz="0 0 0"/>
      <geometry>
        <mesh filename="../meshes/qbhand/ph_short.stl" scale="0.001 0.001 0.001"/>
      </geometry>
      <material name="qbhand/middle"/>
    </visual>
    <collision>
      <origin rpy="0 0 0" xyz="0 0 0"/>
      <geometry>
        <mesh filename="../meshes/qbhand/ph_short_collision.stl" scale="0.001 0.001 0.001"/>
      </geometry>
    </collision>
  </link>
  <gazebo reference="qbhand_middle_middle_link">
    <self_collide>1</self_collide>
    <!-- TODO: add other Gazebo Link properties (http://sdformat.org/spec?elem=link) -->
    <!--      <collision>-->
    <!--        <surface>-->
    <!--          <contact>-->
    <!--            <ode>-->
    <!--              <kp>1.0</kp>-->
    <!--              <kd>0.01</kd>-->
    <!--              <max_vel>0.0</max_vel>-->
    <!--              <min_depth>0.001</min_depth>-->
    <!--            </ode>-->
    <!--          </contact>-->
    <!--          <friction>-->
    <!--            <ode>-->
    <!--              <mu>0.9</mu>-->
    <!--              <mu2>0.9</mu2>-->
    <!--            </ode>-->
    <!--          </friction>-->
    <!--        </surface>-->
    <!--      </collision>-->
  </gazebo>
  <joint name="qbhand_middle_distal_joint" type="revolute">
    <origin rpy="0 0 0" xyz="0.009 0 0"/>
    <parent link="qbhand_middle_middle_link"/>
    <child link="qbhand_middle_distal_virtual_link"/>
    <axis xyz="0 0 -1"/>
    <dynamics damping="0.0" friction="0.0"/>
    <limit effort="100" lower="0.0" upper="0.785" velocity="100"/>
    <mimic joint="qbhand_synergy_joint" multiplier="0.785"/>
  </joint>
  <transmission name="qbhand_transmission">
    <type>transmission_interface/qbMoveTransmission</type>
    <joint name="qbhand_middle_distal_joint">
      <hardwareInterface>hardware_interface/EffortJointInterface</hardwareInterface>
    </joint>
    <actuator name="qbhand_middle_distal_joint">
      <hardwareInterface>hardware_interface/EffortJointInterface</hardwareInterface>
    </actuator>
  </transmission>
  <gazebo reference="qbhand_middle_distal_joint">
    <!-- TODO: add other Gazebo Joint properties (http://sdformat.org/spec?elem=joint) -->
  </gazebo>
  <link name="qbhand_middle_distal_virtual_link">
    <inertial>
      <origin rpy="0 0 0" xyz="0 0 0"/>
      <mass value="1e-4"/>
      <inertia ixx="1e-9" ixy="0.0" ixz="0.0" iyy="1e-9" iyz="0.0" izz="1e-9"/>
    </inertial>
  </link>
  <joint name="qbhand_middle_distal_virtual_joint" type="revolute">
    <origin rpy="0 0 0" xyz="0.013 0 0"/>
    <parent link="qbhand_middle_distal_virtual_link"/>
    <child link="qbhand_middle_distal_link"/>
    <axis xyz="0 0 -1"/>
    <dynamics damping="0.0" friction="0.0"/>
    <limit effort="100" lower="0.0" upper="0.785" velocity="100"/>
    <mimic joint="qbhand_middle_distal_joint" multiplier="1.0"/>
  </joint>
  <transmission name="qbhand_transmission">
    <type>transmission_interface/qbMoveTransmission</type>
    <joint name="qbhand_middle_distal_virtual_joint">
      <hardwareInterface>hardware_interface/EffortJointInterface</hardwareInterface>
    </joint>
    <actuator name="qbhand_middle_distal_virtual_joint">
      <hardwareInterface>hardware_interface/EffortJointInterface</hardwareInterface>
    </actuator>
  </transmission>
  <gazebo reference="qbhand_middle_distal_virtual_joint">
    <!-- TODO: add other Gazebo Joint properties (http://sdformat.org/spec?elem=joint) -->
  </gazebo>
  <link name="qbhand_middle_distal_link">
    <inertial>
      <mass value="0.009"/>
      <origin rpy="0 0 0" xyz="8.8025467e-03 -1.7219289e-03 0.0"/>
      <inertia ixx="2.6586142e-07" ixy="1.2416847e-08" ixz="0.0" iyy="5.9935767e-07" iyz="0.0" izz="6.6781963e-07"/>
    </inertial>
    <visual>
      <origin rpy="0 0 0" xyz="0 0 0"/>
      <geometry>
        <mesh filename="../meshes/qbhand/ph_distal.stl" scale="0.001 0.001 0.001"/>
      </geometry>
      <material name="qbhand/distal"/>
    </visual>
    <collision>
      <origin rpy="0 0 0" xyz="0 0 0"/>
      <geometry>
        <mesh filename="../meshes/qbhand/ph_distal_collision.stl" scale="0.001 0.001 0.001"/>
      </geometry>
    </collision>
  </link>
  <gazebo reference="qbhand_middle_distal_link">
    <self_collide>1</self_collide>
    <!-- TODO: add other Gazebo Link properties (http://sdformat.org/spec?elem=link) -->
    <!--      <collision>-->
    <!--        <surface>-->
    <!--          <contact>-->
    <!--            <ode>-->
    <!--              <kp>1.0</kp>-->
    <!--              <kd>0.01</kd>-->
    <!--              <max_vel>0.0</max_vel>-->
    <!--              <min_depth>0.001</min_depth>-->
    <!--            </ode>-->
    <!--          </contact>-->
    <!--          <friction>-->
    <!--            <ode>-->
    <!--              <mu>0.9</mu>-->
    <!--              <mu2>0.9</mu2>-->
    <!--            </ode>-->
    <!--          </friction>-->
    <!--        </surface>-->
    <!--      </collision>-->
  </gazebo>
  <joint name="qbhand_ring_knuckle_joint" type="revolute">
    <origin rpy="0 3.14 -1.57" xyz="0.02 -0.007 -0.014"/>
    <parent link="qbhand_palm_link"/>
    <child link="qbhand_ring_knuckle_link"/>
    <axis xyz="0 0 -1"/>
    <dynamics damping="0.0" friction="0.0"/>
    <limit effort="100" lower="-0.524" upper="0.524" velocity="100"/>
    <mimic joint="qbhand_synergy_joint" multiplier="-0.2"/>
  </joint>
  <transmission name="qbhand_transmission">
    <type>transmission_interface/qbMoveTransmission</type>
    <joint name="qbhand_ring_knuckle_joint">
      <hardwareInterface>hardware_interface/EffortJointInterface</hardwareInterface>
    </joint>
    <actuator name="qbhand_ring_knuckle_joint">
      <hardwareInterface>hardware_interface/EffortJointInterface</hardwareInterface>
    </actuator>
  </transmission>
  <gazebo reference="qbhand_ring_knuckle_joint">
    <!-- TODO: add other Gazebo Joint properties (http://sdformat.org/spec?elem=joint) -->
  </gazebo>
  <link name="qbhand_ring_knuckle_link">
    <inertial>
      <mass value="0.0095"/>
      <origin rpy="0 0 0" xyz="4.2753603e-04  0.0 -1.4321738e-03"/>
      <inertia ixx="6.4337303e-07" ixy="0.0" ixz="-3.9373913e-08" iyy="1.1253771e-06" iyz="0.0" izz="7.2336948e-07"/>
    </inertial>
    <visual>
      <origin rpy="0 0 0" xyz="0 0 0"/>
      <geometry>
        <mesh filename="../meshes/qbhand/ph_knuckle.stl" scale="0.001 0.001 0.001"/>
      </geometry>
      <material name="qbhand/knuckle"/>
    </visual>
    <collision>
      <origin rpy="0 0 0" xyz="0 0 0"/>
      <geometry>
        <mesh filename="../meshes/qbhand/ph_knuckle_collision.stl" scale="0.001 0.001 0.001"/>
      </geometry>
    </collision>
  </link>
  <gazebo reference="qbhand_ring_knuckle_link">
    <self_collide>1</self_collide>
    <!-- TODO: add other Gazebo Link properties (http://sdformat.org/spec?elem=link) -->
    <!--      <collision>-->
    <!--        <surface>-->
    <!--          <contact>-->
    <!--            <ode>-->
    <!--              <kp>1.0</kp>-->
    <!--              <kd>0.01</kd>-->
    <!--              <max_vel>0.0</max_vel>-->
    <!--              <min_depth>0.001</min_depth>-->
    <!--            </ode>-->
    <!--          </contact>-->
    <!--          <friction>-->
    <!--            <ode>-->
    <!--              <mu>0.9</mu>-->
    <!--              <mu2>0.9</mu2>-->
    <!--            </ode>-->
    <!--          </friction>-->
    <!--        </surface>-->
    <!--      </collision>-->
  </gazebo>
  <joint name="qbhand_ring_proximal_joint" type="revolute">
    <origin rpy="1.57 0 0" xyz="0.009 0 0"/>
    <parent link="qbhand_ring_knuckle_link"/>
    <child link="qbhand_ring_proximal_virtual_link"/>
    <axis xyz="0 0 -1"/>
    <dynamics damping="0.0" friction="0.0"/>
    <limit effort="100" lower="0.0" upper="0.785" velocity="100"/>
    <mimic joint="qbhand_synergy_joint" multiplier="0.785"/>
  </joint>
  <transmission name="qbhand_transmission">
    <type>transmission_interface/qbMoveTransmission</type>
    <joint name="qbhand_ring_proximal_joint">
      <hardwareInterface>hardware_interface/EffortJointInterface</hardwareInterface>
    </joint>
    <actuator name="qbhand_ring_proximal_joint">
      <hardwareInterface>hardware_interface/EffortJointInterface</hardwareInterface>
    </actuator>
  </transmission>
  <gazebo reference="qbhand_ring_proximal_joint">
    <!-- TODO: add other Gazebo Joint properties (http://sdformat.org/spec?elem=joint) -->
  </gazebo>
  <link name="qbhand_ring_proximal_virtual_link">
    <inertial>
      <origin rpy="0 0 0" xyz="0 0 0"/>
      <mass value="1e-4"/>
      <inertia ixx="1e-9" ixy="0.0" ixz="0.0" iyy="1e-9" iyz="0.0" izz="1e-9"/>
    </inertial>
  </link>
  <joint name="qbhand_ring_proximal_virtual_joint" type="revolute">
    <origin rpy="0 0 0" xyz="0.013 0 0"/>
    <parent link="qbhand_ring_proximal_virtual_link"/>
    <child link="qbhand_ring_proximal_link"/>
    <axis xyz="0 0 -1"/>
    <dynamics damping="0.0" friction="0.0"/>
    <limit effort="100" lower="0.0" upper="0.785" velocity="100"/>
    <mimic joint="qbhand_ring_proximal_joint" multiplier="1.0"/>
  </joint>
  <transmission name="qbhand_transmission">
    <type>transmission_interface/qbMoveTransmission</type>
    <joint name="qbhand_ring_proximal_virtual_joint">
      <hardwareInterface>hardware_interface/EffortJointInterface</hardwareInterface>
    </joint>
    <actuator name="qbhand_ring_proximal_virtual_joint">
      <hardwareInterface>hardware_interface/EffortJointInterface</hardwareInterface>
    </actuator>
  </transmission>
  <gazebo reference="qbhand_ring_proximal_virtual_joint">
    <!-- TODO: add other Gazebo Joint properties (http://sdformat.org/spec?elem=joint) -->
  </gazebo>
  <link name="qbhand_ring_proximal_link">
    <inertial>
      <mass value="0.0082"/>
      <origin rpy="0 0 0" xyz="8.7707437e-03 -1.7863138e-03 0.0"/>
      <inertia ixx="2.2722068e-07" ixy="1.1586053e-08" ixz="0.0" iyy="5.5947233e-07" iyz="0.0" izz="5.9562195e-07"/>
    </inertial>
    <visual>
      <origin rpy="0 0 0" xyz="0 0 0"/>
      <geometry>
        <mesh filename="../meshes/qbhand/ph_medium.stl" scale="0.001 0.001 0.001"/>
      </geometry>
      <material name="qbhand/proximal"/>
    </visual>
    <collision>
      <origin rpy="0 0 0" xyz="0 0 0"/>
      <geometry>
        <mesh filename="../meshes/qbhand/ph_medium_collision.stl" scale="0.001 0.001 0.001"/>
      </geometry>
    </collision>
  </link>
  <gazebo reference="qbhand_ring_proximal_link">
    <self_collide>1</self_collide>
    <!-- TODO: add other Gazebo Link properties (http://sdformat.org/spec?elem=link) -->
    <!--      <collision>-->
    <!--        <surface>-->
    <!--          <contact>-->
    <!--            <ode>-->
    <!--              <kp>1.0</kp>-->
    <!--              <kd>0.01</kd>-->
    <!--              <max_vel>0.0</max_vel>-->
    <!--              <min_depth>0.001</min_depth>-->
    <!--            </ode>-->
    <!--          </contact>-->
    <!--          <friction>-->
    <!--            <ode>-->
    <!--              <mu>0.9</mu>-->
    <!--              <mu2>0.9</mu2>-->
    <!--            </ode>-->
    <!--          </friction>-->
    <!--        </surface>-->
    <!--      </collision>-->
  </gazebo>
  <joint name="qbhand_ring_middle_joint" type="revolute">
    <origin rpy="0 0 0" xyz="0.017 0 0"/>
    <parent link="qbhand_ring_proximal_link"/>
    <child link="qbhand_ring_middle_virtual_link"/>
    <axis xyz="0 0 -1"/>
    <dynamics damping="0.0" friction="0.0"/>
    <limit effort="100" lower="0.0" upper="0.785" velocity="100"/>
    <mimic joint="qbhand_synergy_joint" multiplier="0.785"/>
  </joint>
  <transmission name="qbhand_transmission">
    <type>transmission_interface/qbMoveTransmission</type>
    <joint name="qbhand_ring_middle_joint">
      <hardwareInterface>hardware_interface/EffortJointInterface</hardwareInterface>
    </joint>
    <actuator name="qbhand_ring_middle_joint">
      <hardwareInterface>hardware_interface/EffortJointInterface</hardwareInterface>
    </actuator>
  </transmission>
  <gazebo reference="qbhand_ring_middle_joint">
    <!-- TODO: add other Gazebo Joint properties (http://sdformat.org/spec?elem=joint) -->
  </gazebo>
  <link name="qbhand_ring_middle_virtual_link">
    <inertial>
      <origin rpy="0 0 0" xyz="0 0 0"/>
      <mass value="1e-4"/>
      <inertia ixx="1e-9" ixy="0.0" ixz="0.0" iyy="1e-9" iyz="0.0" izz="1e-9"/>
    </inertial>
  </link>
  <joint name="qbhand_ring_middle_virtual_joint" type="revolute">
    <origin rpy="0 0 0" xyz="0.013 0 0"/>
    <parent link="qbhand_ring_middle_virtual_link"/>
    <child link="qbhand_ring_middle_link"/>
    <axis xyz="0 0 -1"/>
    <dynamics damping="0.0" friction="0.0"/>
    <limit effort="100" lower="0.0" upper="0.785" velocity="100"/>
    <mimic joint="qbhand_ring_middle_joint" multiplier="1.0"/>
  </joint>
  <transmission name="qbhand_transmission">
    <type>transmission_interface/qbMoveTransmission</type>
    <joint name="qbhand_ring_middle_virtual_joint">
      <hardwareInterface>hardware_interface/EffortJointInterface</hardwareInterface>
    </joint>
    <actuator name="qbhand_ring_middle_virtual_joint">
      <hardwareInterface>hardware_interface/EffortJointInterface</hardwareInterface>
    </actuator>
  </transmission>
  <gazebo reference="qbhand_ring_middle_virtual_joint">
    <!-- TODO: add other Gazebo Joint properties (http://sdformat.org/spec?elem=joint) -->
  </gazebo>
  <link name="qbhand_ring_middle_link">
    <inertial>
      <mass value="0.0063"/>
      <origin rpy="0 0 0" xyz="4.7601567e-03 -1.3786947e-03 0.0"/>
      <inertia ixx="1.8024201e-07" ixy="5.756798e-09" ixz="0.0" iyy="2.3516266e-07" iyz="0.0" izz="2.691504e-07"/>
    </inertial>
    <visual>
      <origin rpy="0 0 0" xyz="0 0 0"/>
      <geometry>
        <mesh filename="../meshes/qbhand/ph_short.stl" scale="0.001 0.001 0.001"/>
      </geometry>
      <material name="qbhand/middle"/>
    </visual>
    <collision>
      <origin rpy="0 0 0" xyz="0 0 0"/>
      <geometry>
        <mesh filename="../meshes/qbhand/ph_short_collision.stl" scale="0.001 0.001 0.001"/>
      </geometry>
    </collision>
  </link>
  <gazebo reference="qbhand_ring_middle_link">
    <self_collide>1</self_collide>
    <!-- TODO: add other Gazebo Link properties (http://sdformat.org/spec?elem=link) -->
    <!--      <collision>-->
    <!--        <surface>-->
    <!--          <contact>-->
    <!--            <ode>-->
    <!--              <kp>1.0</kp>-->
    <!--              <kd>0.01</kd>-->
    <!--              <max_vel>0.0</max_vel>-->
    <!--              <min_depth>0.001</min_depth>-->
    <!--            </ode>-->
    <!--          </contact>-->
    <!--          <friction>-->
    <!--            <ode>-->
    <!--              <mu>0.9</mu>-->
    <!--              <mu2>0.9</mu2>-->
    <!--            </ode>-->
    <!--          </friction>-->
    <!--        </surface>-->
    <!--      </collision>-->
  </gazebo>
  <joint name="qbhand_ring_distal_joint" type="revolute">
    <origin rpy="0 0 0" xyz="0.009 0 0"/>
    <parent link="qbhand_ring_middle_link"/>
    <child link="qbhand_ring_distal_virtual_link"/>
    <axis xyz="0 0 -1"/>
    <dynamics damping="0.0" friction="0.0"/>
    <limit effort="100" lower="0.0" upper="0.785" velocity="100"/>
    <mimic joint="qbhand_synergy_joint" multiplier="0.785"/>
  </joint>
  <transmission name="qbhand_transmission">
    <type>transmission_interface/qbMoveTransmission</type>
    <joint name="qbhand_ring_distal_joint">
      <hardwareInterface>hardware_interface/EffortJointInterface</hardwareInterface>
    </joint>
    <actuator name="qbhand_ring_distal_joint">
      <hardwareInterface>hardware_interface/EffortJointInterface</hardwareInterface>
    </actuator>
  </transmission>
  <gazebo reference="qbhand_ring_distal_joint">
    <!-- TODO: add other Gazebo Joint properties (http://sdformat.org/spec?elem=joint) -->
  </gazebo>
  <link name="qbhand_ring_distal_virtual_link">
    <inertial>
      <origin rpy="0 0 0" xyz="0 0 0"/>
      <mass value="1e-4"/>
      <inertia ixx="1e-9" ixy="0.0" ixz="0.0" iyy="1e-9" iyz="0.0" izz="1e-9"/>
    </inertial>
  </link>
  <joint name="qbhand_ring_distal_virtual_joint" type="revolute">
    <origin rpy="0 0 0" xyz="0.013 0 0"/>
    <parent link="qbhand_ring_distal_virtual_link"/>
    <child link="qbhand_ring_distal_link"/>
    <axis xyz="0 0 -1"/>
    <dynamics damping="0.0" friction="0.0"/>
    <limit effort="100" lower="0.0" upper="0.785" velocity="100"/>
    <mimic joint="qbhand_ring_distal_joint" multiplier="1.0"/>
  </joint>
  <transmission name="qbhand_transmission">
    <type>transmission_interface/qbMoveTransmission</type>
    <joint name="qbhand_ring_distal_virtual_joint">
      <hardwareInterface>hardware_interface/EffortJointInterface</hardwareInterface>
    </joint>
    <actuator name="qbhand_ring_distal_virtual_joint">
      <hardwareInterface>hardware_interface/EffortJointInterface</hardwareInterface>
    </actuator>
  </transmission>
  <gazebo reference="qbhand_ring_distal_virtual_joint">
    <!-- TODO: add other Gazebo Joint properties (http://sdformat.org/spec?elem=joint) -->
  </gazebo>
  <link name="qbhand_ring_distal_link">
    <inertial>
      <mass value="0.009"/>
      <origin rpy="0 0 0" xyz="8.8025467e-03 -1.7219289e-03 0.0"/>
      <inertia ixx="2.6586142e-07" ixy="1.2416847e-08" ixz="0.0" iyy="5.9935767e-07" iyz="0.0" izz="6.6781963e-07"/>
    </inertial>
    <visual>
      <origin rpy="0 0 0" xyz="0 0 0"/>
      <geometry>
        <mesh filename="../meshes/qbhand/ph_distal.stl" scale="0.001 0.001 0.001"/>
      </geometry>
      <material name="qbhand/distal"/>
    </visual>
    <collision>
      <origin rpy="0 0 0" xyz="0 0 0"/>
      <geometry>
        <mesh filename="../meshes/qbhand/ph_distal_collision.stl" scale="0.001 0.001 0.001"/>
      </geometry>
    </collision>
  </link>
  <gazebo reference="qbhand_ring_distal_link">
    <self_collide>1</self_collide>
    <!-- TODO: add other Gazebo Link properties (http://sdformat.org/spec?elem=link) -->
    <!--      <collision>-->
    <!--        <surface>-->
    <!--          <contact>-->
    <!--            <ode>-->
    <!--              <kp>1.0</kp>-->
    <!--              <kd>0.01</kd>-->
    <!--              <max_vel>0.0</max_vel>-->
    <!--              <min_depth>0.001</min_depth>-->
    <!--            </ode>-->
    <!--          </contact>-->
    <!--          <friction>-->
    <!--            <ode>-->
    <!--              <mu>0.9</mu>-->
    <!--              <mu2>0.9</mu2>-->
    <!--            </ode>-->
    <!--          </friction>-->
    <!--        </surface>-->
    <!--      </collision>-->
  </gazebo>
  <joint name="qbhand_little_knuckle_joint" type="revolute">
    <origin rpy="0 3.14 -1.57" xyz="0.04 -0.012 -0.014"/>
    <parent link="qbhand_palm_link"/>
    <child link="qbhand_little_knuckle_link"/>
    <axis xyz="0 0 -1"/>
    <dynamics damping="0.0" friction="0.0"/>
    <limit effort="100" lower="-0.524" upper="0.524" velocity="100"/>
    <mimic joint="qbhand_synergy_joint" multiplier="-0.4"/>
  </joint>
  <transmission name="qbhand_transmission">
    <type>transmission_interface/qbMoveTransmission</type>
    <joint name="qbhand_little_knuckle_joint">
      <hardwareInterface>hardware_interface/EffortJointInterface</hardwareInterface>
    </joint>
    <actuator name="qbhand_little_knuckle_joint">
      <hardwareInterface>hardware_interface/EffortJointInterface</hardwareInterface>
    </actuator>
  </transmission>
  <gazebo reference="qbhand_little_knuckle_joint">
    <!-- TODO: add other Gazebo Joint properties (http://sdformat.org/spec?elem=joint) -->
  </gazebo>
  <link name="qbhand_little_knuckle_link">
    <inertial>
      <mass value="0.0095"/>
      <origin rpy="0 0 0" xyz="4.2753603e-04  0.0 -1.4321738e-03"/>
      <inertia ixx="6.4337303e-07" ixy="0.0" ixz="-3.9373913e-08" iyy="1.1253771e-06" iyz="0.0" izz="7.2336948e-07"/>
    </inertial>
    <visual>
      <origin rpy="0 0 0" xyz="0 0 0"/>
      <geometry>
        <mesh filename="../meshes/qbhand/ph_knuckle.stl" scale="0.001 0.001 0.001"/>
      </geometry>
      <material name="qbhand/knuckle"/>
    </visual>
    <collision>
      <origin rpy="0 0 0" xyz="0 0 0"/>
      <geometry>
        <mesh filename="../meshes/qbhand/ph_knuckle_collision.stl" scale="0.001 0.001 0.001"/>
      </geometry>
    </collision>
  </link>
  <gazebo reference="qbhand_little_knuckle_link">
    <self_collide>1</self_collide>
    <!-- TODO: add other Gazebo Link properties (http://sdformat.org/spec?elem=link) -->
    <!--      <collision>-->
    <!--        <surface>-->
    <!--          <contact>-->
    <!--            <ode>-->
    <!--              <kp>1.0</kp>-->
    <!--              <kd>0.01</kd>-->
    <!--              <max_vel>0.0</max_vel>-->
    <!--              <min_depth>0.001</min_depth>-->
    <!--            </ode>-->
    <!--          </contact>-->
    <!--          <friction>-->
    <!--            <ode>-->
    <!--              <mu>0.9</mu>-->
    <!--              <mu2>0.9</mu2>-->
    <!--            </ode>-->
    <!--          </friction>-->
    <!--        </surface>-->
    <!--      </collision>-->
  </gazebo>
  <joint name="qbhand_little_proximal_joint" type="revolute">
    <origin rpy="1.57 0 0" xyz="0.009 0 0"/>
    <parent link="qbhand_little_knuckle_link"/>
    <child link="qbhand_little_proximal_virtual_link"/>
    <axis xyz="0 0 -1"/>
    <dynamics damping="0.0" friction="0.0"/>
    <limit effort="100" lower="0.0" upper="0.785" velocity="100"/>
    <mimic joint="qbhand_synergy_joint" multiplier="0.785"/>
  </joint>
  <transmission name="qbhand_transmission">
    <type>transmission_interface/qbMoveTransmission</type>
    <joint name="qbhand_little_proximal_joint">
      <hardwareInterface>hardware_interface/EffortJointInterface</hardwareInterface>
    </joint>
    <actuator name="qbhand_little_proximal_joint">
      <hardwareInterface>hardware_interface/EffortJointInterface</hardwareInterface>
    </actuator>
  </transmission>
  <gazebo reference="qbhand_little_proximal_joint">
    <!-- TODO: add other Gazebo Joint properties (http://sdformat.org/spec?elem=joint) -->
  </gazebo>
  <link name="qbhand_little_proximal_virtual_link">
    <inertial>
      <origin rpy="0 0 0" xyz="0 0 0"/>
      <mass value="1e-4"/>
      <inertia ixx="1e-9" ixy="0.0" ixz="0.0" iyy="1e-9" iyz="0.0" izz="1e-9"/>
    </inertial>
  </link>
  <joint name="qbhand_little_proximal_virtual_joint" type="revolute">
    <origin rpy="0 0 0" xyz="0.013 0 0"/>
    <parent link="qbhand_little_proximal_virtual_link"/>
    <child link="qbhand_little_proximal_link"/>
    <axis xyz="0 0 -1"/>
    <dynamics damping="0.0" friction="0.0"/>
    <limit effort="100" lower="0.0" upper="0.785" velocity="100"/>
    <mimic joint="qbhand_little_proximal_joint" multiplier="1.0"/>
  </joint>
  <transmission name="qbhand_transmission">
    <type>transmission_interface/qbMoveTransmission</type>
    <joint name="qbhand_little_proximal_virtual_joint">
      <hardwareInterface>hardware_interface/EffortJointInterface</hardwareInterface>
    </joint>
    <actuator name="qbhand_little_proximal_virtual_joint">
      <hardwareInterface>hardware_interface/EffortJointInterface</hardwareInterface>
    </actuator>
  </transmission>
  <gazebo reference="qbhand_little_proximal_virtual_joint">
    <!-- TODO: add other Gazebo Joint properties (http://sdformat.org/spec?elem=joint) -->
  </gazebo>
  <link name="qbhand_little_proximal_link">
    <inertial>
      <mass value="0.0063"/>
      <origin rpy="0 0 0" xyz="4.7601567e-03 -1.3786947e-03 0.0"/>
      <inertia ixx="1.8024201e-07" ixy="5.756798e-09" ixz="0.0" iyy="2.3516266e-07" iyz="0.0" izz="2.691504e-07"/>
    </inertial>
    <visual>
      <origin rpy="0 0 0" xyz="0 0 0"/>
      <geometry>
        <mesh filename="../meshes/qbhand/ph_short.stl" scale="0.001 0.001 0.001"/>
      </geometry>
      <material name="qbhand/proximal"/>
    </visual>
    <collision>
      <origin rpy="0 0 0" xyz="0 0 0"/>
      <geometry>
        <mesh filename="../meshes/qbhand/ph_short_collision.stl" scale="0.001 0.001 0.001"/>
      </geometry>
    </collision>
  </link>
  <gazebo reference="qbhand_little_proximal_link">
    <self_collide>1</self_collide>
    <!-- TODO: add other Gazebo Link properties (http://sdformat.org/spec?elem=link) -->
    <!--      <collision>-->
    <!--        <surface>-->
    <!--          <contact>-->
    <!--            <ode>-->
    <!--              <kp>1.0</kp>-->
    <!--              <kd>0.01</kd>-->
    <!--              <max_vel>0.0</max_vel>-->
    <!--              <min_depth>0.001</min_depth>-->
    <!--            </ode>-->
    <!--          </contact>-->
    <!--          <friction>-->
    <!--            <ode>-->
    <!--              <mu>0.9</mu>-->
    <!--              <mu2>0.9</mu2>-->
    <!--            </ode>-->
    <!--          </friction>-->
    <!--        </surface>-->
    <!--      </collision>-->
  </gazebo>
  <joint name="qbhand_little_middle_joint" type="revolute">
    <origin rpy="0 0 0" xyz="0.009 0 0"/>
    <parent link="qbhand_little_proximal_link"/>
    <child link="qbhand_little_middle_virtual_link"/>
    <axis xyz="0 0 -1"/>
    <dynamics damping="0.0" friction="0.0"/>
    <limit effort="100" lower="0.0" upper="0.785" velocity="100"/>
    <mimic joint="qbhand_synergy_joint" multiplier="0.785"/>
  </joint>
  <transmission name="qbhand_transmission">
    <type>transmission_interface/qbMoveTransmission</type>
    <joint name="qbhand_little_middle_joint">
      <hardwareInterface>hardware_interface/EffortJointInterface</hardwareInterface>
    </joint>
    <actuator name="qbhand_little_middle_joint">
      <hardwareInterface>hardware_interface/EffortJointInterface</hardwareInterface>
    </actuator>
  </transmission>
  <gazebo reference="qbhand_little_middle_joint">
    <!-- TODO: add other Gazebo Joint properties (http://sdformat.org/spec?elem=joint) -->
  </gazebo>
  <link name="qbhand_little_middle_virtual_link">
    <inertial>
      <origin rpy="0 0 0" xyz="0 0 0"/>
      <mass value="1e-4"/>
      <inertia ixx="1e-9" ixy="0.0" ixz="0.0" iyy="1e-9" iyz="0.0" izz="1e-9"/>
    </inertial>
  </link>
  <joint name="qbhand_little_middle_virtual_joint" type="revolute">
    <origin rpy="0 0 0" xyz="0.013 0 0"/>
    <parent link="qbhand_little_middle_virtual_link"/>
    <child link="qbhand_little_middle_link"/>
    <axis xyz="0 0 -1"/>
    <dynamics damping="0.0" friction="0.0"/>
    <limit effort="100" lower="0.0" upper="0.785" velocity="100"/>
    <mimic joint="qbhand_little_middle_joint" multiplier="1.0"/>
  </joint>
  <transmission name="qbhand_transmission">
    <type>transmission_interface/qbMoveTransmission</type>
    <joint name="qbhand_little_middle_virtual_joint">
      <hardwareInterface>hardware_interface/EffortJointInterface</hardwareInterface>
    </joint>
    <actuator name="qbhand_little_middle_virtual_joint">
      <hardwareInterface>hardware_interface/EffortJointInterface</hardwareInterface>
    </actuator>
  </transmission>
  <gazebo reference="qbhand_little_middle_virtual_joint">
    <!-- TODO: add other Gazebo Joint properties (http://sdformat.org/spec?elem=joint) -->
  </gazebo>
  <link name="qbhand_little_middle_link">
    <inertial>
      <mass value="0.0063"/>
      <origin rpy="0 0 0" xyz="4.7601567e-03 -1.3786947e-03 0.0"/>
      <inertia ixx="1.8024201e-07" ixy="5.756798e-09" ixz="0.0" iyy="2.3516266e-07" iyz="0.0" izz="2.691504e-07"/>
    </inertial>
    <visual>
      <origin rpy="0 0 0" xyz="0 0 0"/>
      <geometry>
        <mesh filename="../meshes/qbhand/ph_short.stl" scale="0.001 0.001 0.001"/>
      </geometry>
      <material name="qbhand/middle"/>
    </visual>
    <collision>
      <origin rpy="0 0 0" xyz="0 0 0"/>
      <geometry>
        <mesh filename="../meshes/qbhand/ph_short_collision.stl" scale="0.001 0.001 0.001"/>
      </geometry>
    </collision>
  </link>
  <gazebo reference="qbhand_little_middle_link">
    <self_collide>1</self_collide>
    <!-- TODO: add other Gazebo Link properties (http://sdformat.org/spec?elem=link) -->
    <!--      <collision>-->
    <!--        <surface>-->
    <!--          <contact>-->
    <!--            <ode>-->
    <!--              <kp>1.0</kp>-->
    <!--              <kd>0.01</kd>-->
    <!--              <max_vel>0.0</max_vel>-->
    <!--              <min_depth>0.001</min_depth>-->
    <!--            </ode>-->
    <!--          </contact>-->
    <!--          <friction>-->
    <!--            <ode>-->
    <!--              <mu>0.9</mu>-->
    <!--              <mu2>0.9</mu2>-->
    <!--            </ode>-->
    <!--          </friction>-->
    <!--        </surface>-->
    <!--      </collision>-->
  </gazebo>
  <joint name="qbhand_little_distal_joint" type="revolute">
    <origin rpy="0 0 0" xyz="0.009 0 0"/>
    <parent link="qbhand_little_middle_link"/>
    <child link="qbhand_little_distal_virtual_link"/>
    <axis xyz="0 0 -1"/>
    <dynamics damping="0.0" friction="0.0"/>
    <limit effort="100" lower="0.0" upper="0.785" velocity="100"/>
    <mimic joint="qbhand_synergy_joint" multiplier="0.785"/>
  </joint>
  <transmission name="qbhand_transmission">
    <type>transmission_interface/qbMoveTransmission</type>
    <joint name="qbhand_little_distal_joint">
      <hardwareInterface>hardware_interface/EffortJointInterface</hardwareInterface>
    </joint>
    <actuator name="qbhand_little_distal_joint">
      <hardwareInterface>hardware_interface/EffortJointInterface</hardwareInterface>
    </actuator>
  </transmission>
  <gazebo reference="qbhand_little_distal_joint">
    <!-- TODO: add other Gazebo Joint properties (http://sdformat.org/spec?elem=joint) -->
  </gazebo>
  <link name="qbhand_little_distal_virtual_link">
    <inertial>
      <origin rpy="0 0 0" xyz="0 0 0"/>
      <mass value="1e-4"/>
      <inertia ixx="1e-9" ixy="0.0" ixz="0.0" iyy="1e-9" iyz="0.0" izz="1e-9"/>
    </inertial>
  </link>
  <joint name="qbhand_little_distal_virtual_joint" type="revolute">
    <origin rpy="0 0 0" xyz="0.013 0 0"/>
    <parent link="qbhand_little_distal_virtual_link"/>
    <child link="qbhand_little_distal_link"/>
    <axis xyz="0 0 -1"/>
    <dynamics damping="0.0" friction="0.0"/>
    <limit effort="100" lower="0.0" upper="0.785" velocity="100"/>
    <mimic joint="qbhand_little_distal_joint" multiplier="1.0"/>
  </joint>
  <transmission name="qbhand_transmission">
    <type>transmission_interface/qbMoveTransmission</type>
    <joint name="qbhand_little_distal_virtual_joint">
      <hardwareInterface>hardware_interface/EffortJointInterface</hardwareInterface>
    </joint>
    <actuator name="qbhand_little_distal_virtual_joint">
      <hardwareInterface>hardware_interface/EffortJointInterface</hardwareInterface>
    </actuator>
  </transmission>
  <gazebo reference="qbhand_little_distal_virtual_joint">
    <!-- TODO: add other Gazebo Joint properties (http://sdformat.org/spec?elem=joint) -->
  </gazebo>
  <link name="qbhand_little_distal_link">
    <inertial>
      <mass value="0.009"/>
      <origin rpy="0 0 0" xyz="8.8025467e-03 -1.7219289e-03 0.0"/>
      <inertia ixx="2.6586142e-07" ixy="1.2416847e-08" ixz="0.0" iyy="5.9935767e-07" iyz="0.0" izz="6.6781963e-07"/>
    </inertial>
    <visual>
      <origin rpy="0 0 0" xyz="0 0 0"/>
      <geometry>
        <mesh filename="../meshes/qbhand/ph_distal.stl" scale="0.001 0.001 0.001"/>
      </geometry>
      <material name="qbhand/distal"/>
    </visual>
    <collision>
      <origin rpy="0 0 0" xyz="0 0 0"/>
      <geometry>
        <mesh filename="../meshes/qbhand/ph_distal_collision.stl" scale="0.001 0.001 0.001"/>
      </geometry>
    </collision>
  </link>
  <gazebo reference="qbhand_little_distal_link">
    <self_collide>1</self_collide>
    <!-- TODO: add other Gazebo Link properties (http://sdformat.org/spec?elem=link) -->
    <!--      <collision>-->
    <!--        <surface>-->
    <!--          <contact>-->
    <!--            <ode>-->
    <!--              <kp>1.0</kp>-->
    <!--              <kd>0.01</kd>-->
    <!--              <max_vel>0.0</max_vel>-->
    <!--              <min_depth>0.001</min_depth>-->
    <!--            </ode>-->
    <!--          </contact>-->
    <!--          <friction>-->
    <!--            <ode>-->
    <!--              <mu>0.9</mu>-->
    <!--              <mu2>0.9</mu2>-->
    <!--            </ode>-->
    <!--          </friction>-->
    <!--        </surface>-->
    <!--      </collision>-->
  </gazebo>
  <joint name="qbhand_end_effector_fixed_joint" type="fixed">
    <origin rpy="-1.57 0 0" xyz="-0.03 0.060 0.142"/>
    <parent link="qbhand_base_link"/>
    <child link="qbhand_end_effector_link"/>
  </joint>
  <link name="qbhand_end_effector_link"/>
  <gazebo>
    <plugin filename="libqb_hand_gazebo_plugin.so" name="qb_hand_gazebo_plugin"/>
  </gazebo>
</robot>
